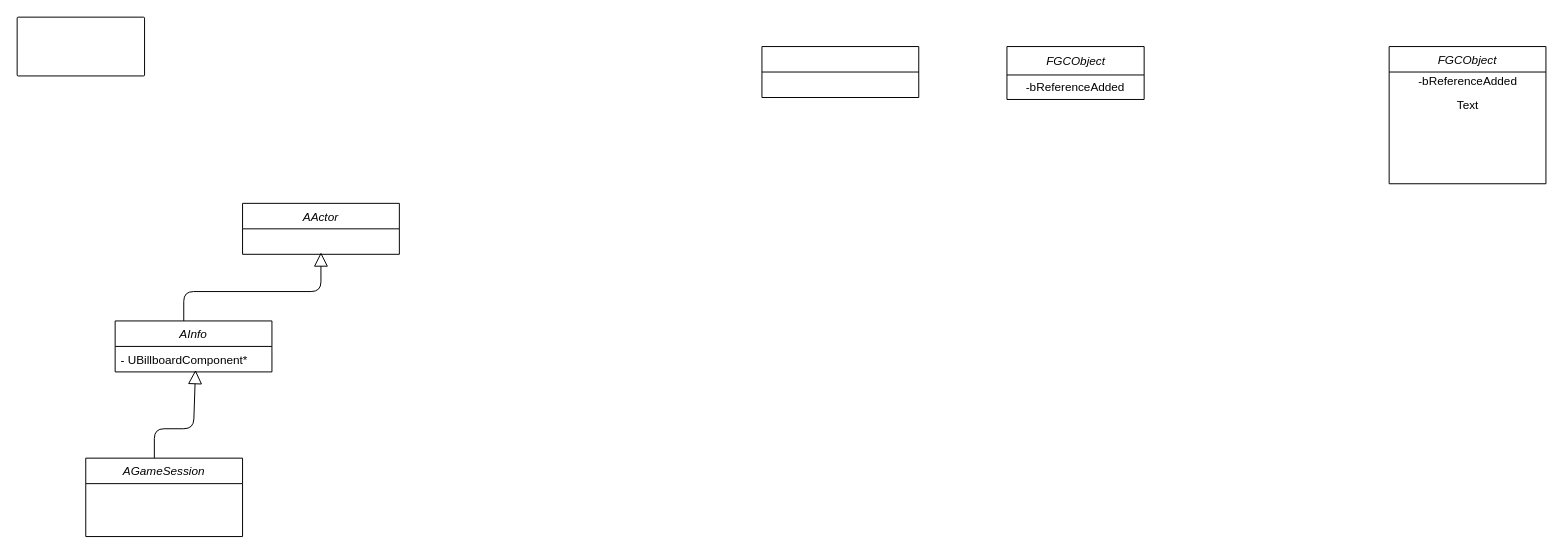
Image size: 1563x554. Some labels were removed from this diagram. The box of each missing label's shape, as (x1, y1, x2, y2) in pixels:
UE4引擎变量名较长 通常情况隐藏变量名 只显示参数类型: (16, 16, 145, 76)
UObjectBase: (761, 46, 919, 98)
